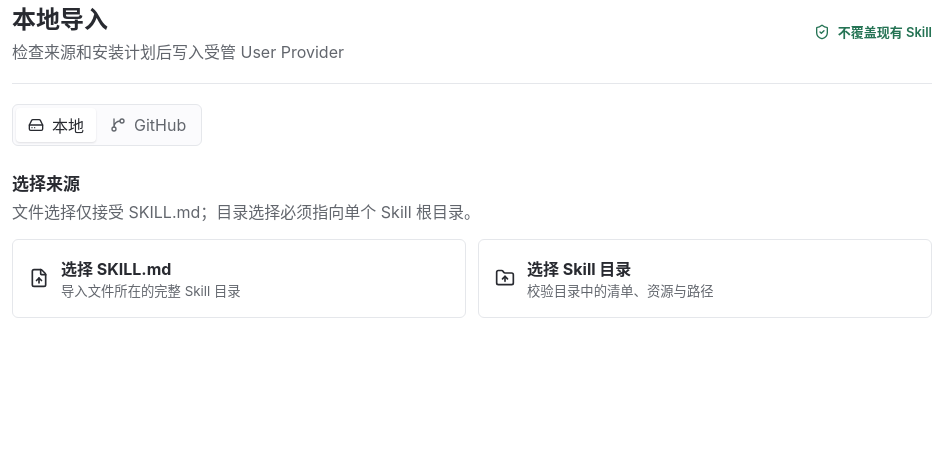
Test case: InstallPage › shows only stable operation errors and recovery guidance
Click the button "选择 SKILL.md 导入文件所在的完整 Skill 目录" at (116, 269), box 12,239 -> 466,318
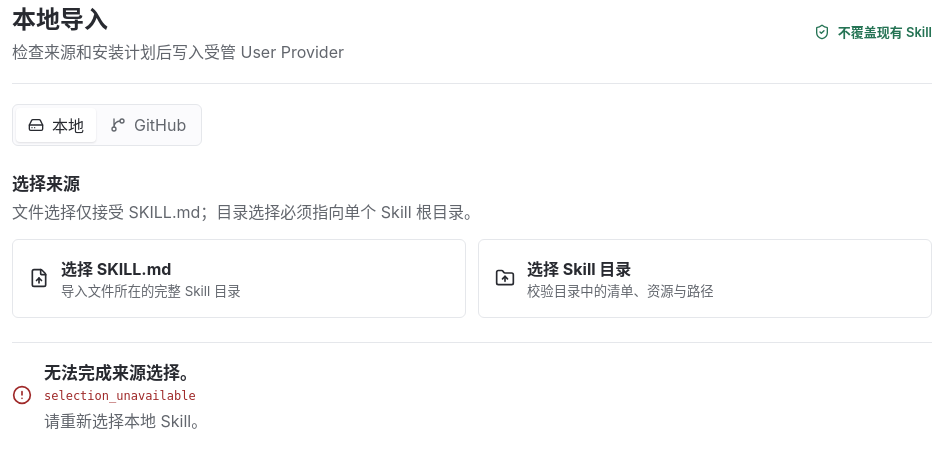
Now the text "selection_unavailable" is shown, box 44,389 -> 196,403
Now the text "请重新选择本地 Skill。" is shown, box 44,408 -> 207,432
